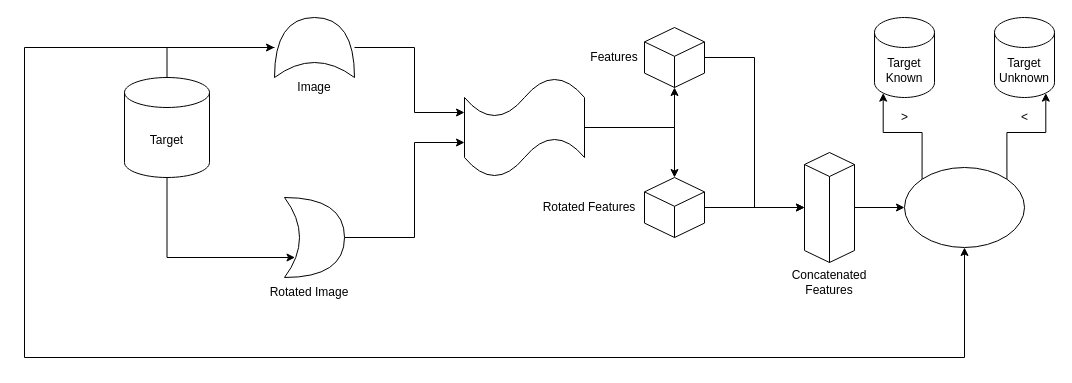
The diagram is 1072 pixels wide and 383 high, and some of its shapes have lost their labels. Here are the shapes that lost their labels. From the top down, the centre of each, then its label:
At point (524, 127): "Feature Extractor".
At point (964, 207): "Rotation Classifier".
